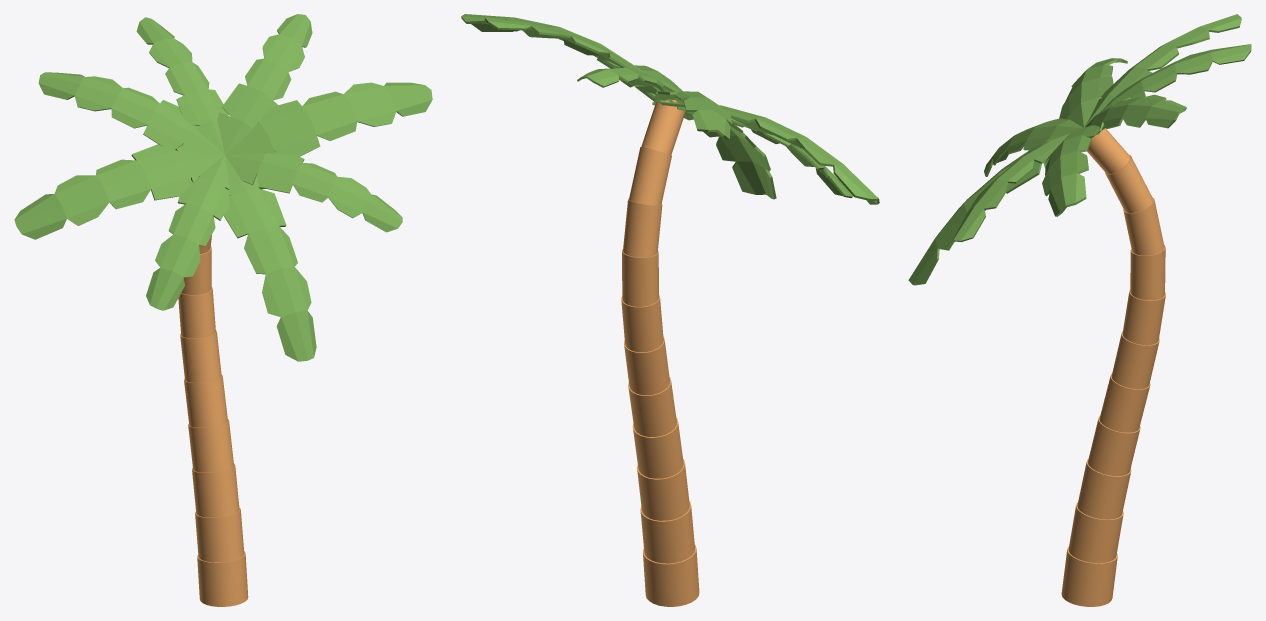
Rendered from PalmTree.fbx.
3 renders of one model, left to right at view 1: azimuth 30°, elevation 25°; view 2: azimuth 150°, elevation 25°; view 3: azimuth 270°, elevation 25°, orthographic. The views are drawn at different scales.
Visible parts, largest first — view 1: Plane.006; view 2: Plane.006; view 3: Plane.006.
Boxes of the visible parts, box(x1,y1,x2,y2) form: Plane.006: box(14, 14, 432, 606); Plane.006: box(461, 14, 879, 606); Plane.006: box(908, 14, 1251, 606).
Bounding box in the file's own units: 576 × 734 × 413.
